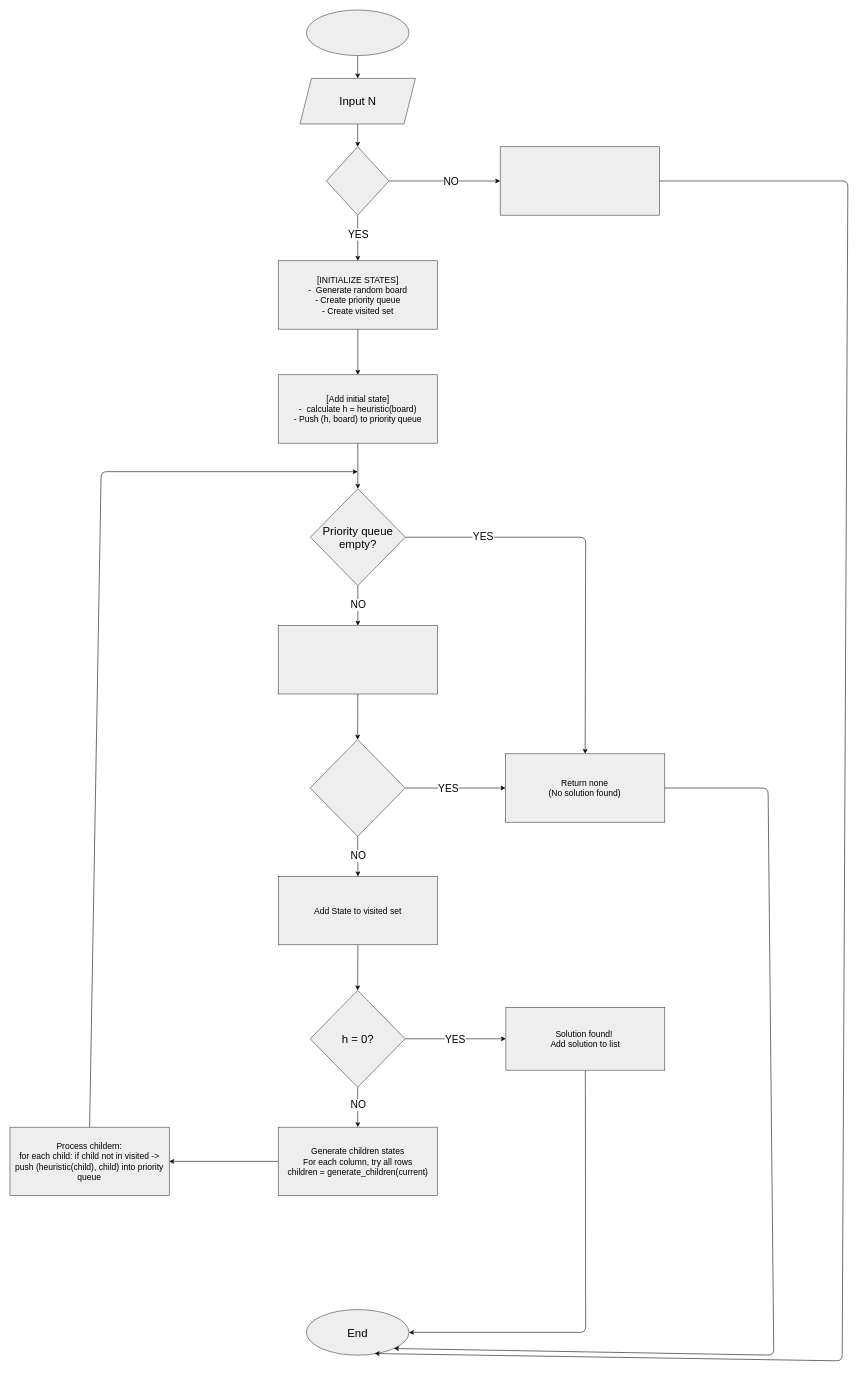
The diagram is 862 pixels wide and 1375 high, and some of its shapes have lost their labels. The centre of each missing label's shape, as x and y in pixels:
"- Pop (h, current) from queue - Convert board to tuple" belongs at (357,659).
"N >= 4" belongs at (357,180).
"Raise ValueError" belongs at (579,180).
"Start" belongs at (357,32).
"State visited?" belongs at (357,787).
